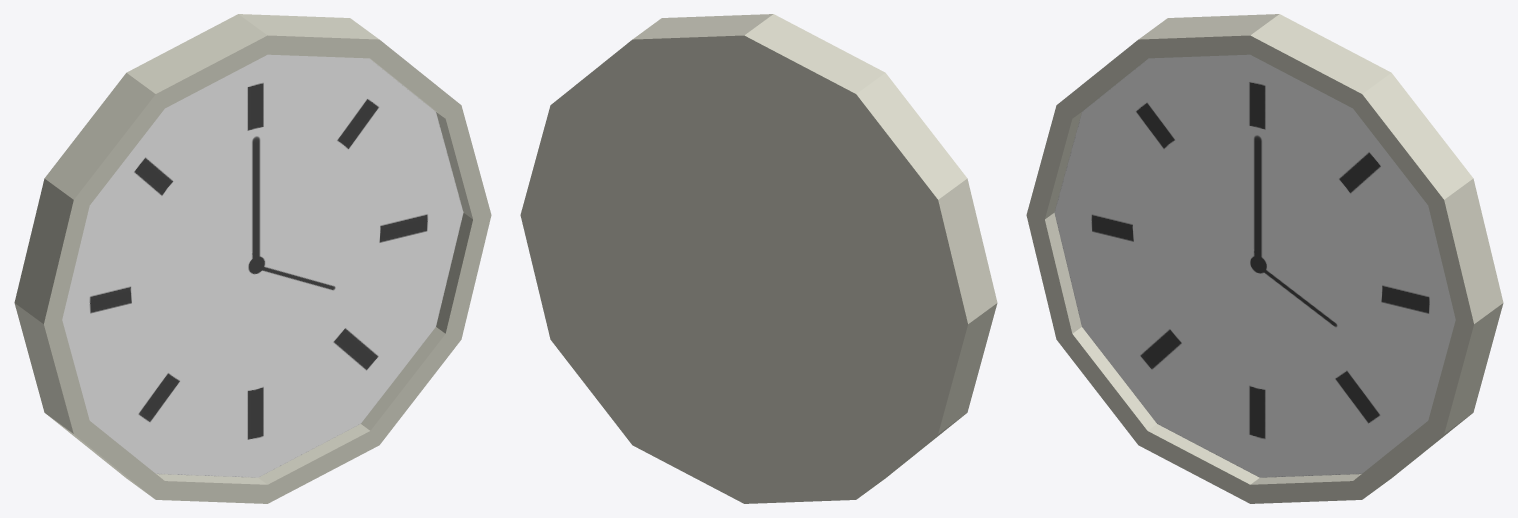
File: frame_round.fbx
The picture shows the model from 3 angles, left to right: view 1: azimuth 30°, elevation 25°; view 2: azimuth 150°, elevation 25°; view 3: azimuth 330°, elevation 25°; orthographic projection.
Parts seen in each view (by area): view 1: Clock; view 2: Clock; view 3: Clock.
Boxes of the visible parts, x1,y1,x2,y2 form: Clock: (14,14,491,503); Clock: (520,14,997,503); Clock: (1026,14,1503,503).
Size of the model in its own units: 128 by 128 by 14.59.
